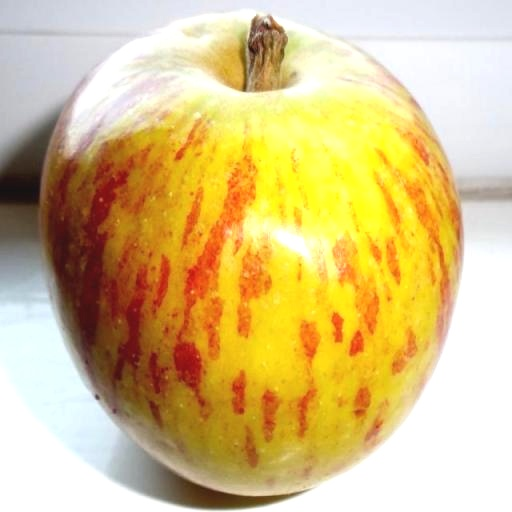fruit: (41, 13, 461, 494)
